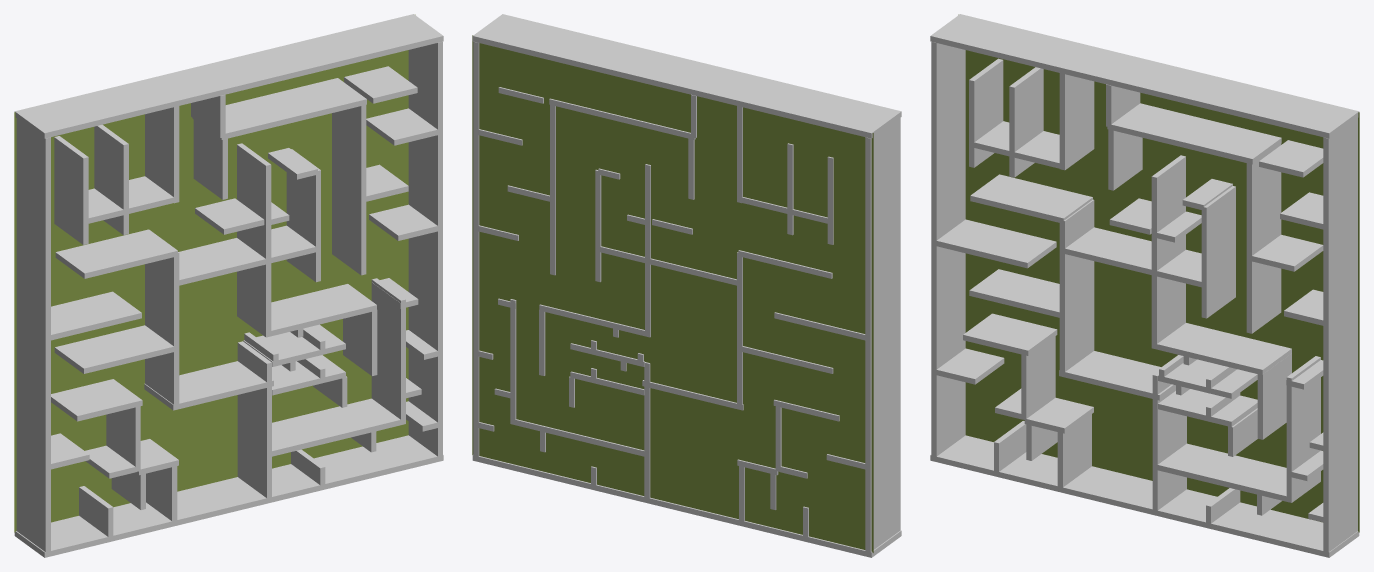
File: Labirinth .fbx
The picture shows the model from 3 angles, left to right: view 1: azimuth 30°, elevation 25°; view 2: azimuth 150°, elevation 25°; view 3: azimuth 330°, elevation 25°; orthographic projection.
Parts seen in each view (by area): view 1: Floor, Wallright__5_, Wallright__2_, Wallright__4_, Wallright__3_, Wallright__13_, Wallright__7_, Wallright__28_, Wallright__10_, Wallright__30_, Wallright__12_, Wallright__27_ (+36 smaller); view 2: Floor, Wallright__5_, Wallright__2_, Wallright__3_, Wallright__4_, Wallright__7_, Wallright__13_, Wallright__28_, Wallright__12_, Wallright__10_, Wallright__30_, Wallright__27_ (+10 smaller); view 3: Floor, Wallright__4_, Wallright__2_, Wallright__5_, Wallright__3_, Wallright__7_, Wallright__13_, Wallright__10_, Wallright__30_, Wallright__50_, Wallright__25_, Wallright__12_ (+36 smaller).
Boxes of the visible parts, x1=… form: Floor: x1=14, y1=14, x2=415, y2=532; Wallright__5_: x1=16, y1=118, x2=50, y2=554; Wallright__2_: x1=14, y1=14, x2=443, y2=138; Wallright__4_: x1=408, y1=41, x2=442, y2=460; Wallright__3_: x1=14, y1=435, x2=443, y2=557; Wallright__13_: x1=237, y1=143, x2=271, y2=333; Wallright__7_: x1=192, y1=78, x2=366, y2=139; Wallright__28_: x1=237, y1=341, x2=271, y2=497; Wallright__10_: x1=145, y1=252, x2=179, y2=409; Wallright__30_: x1=272, y1=398, x2=402, y2=456; Wallright__12_: x1=178, y1=225, x2=317, y2=285; Wallright__27_: x1=371, y1=278, x2=405, y2=424; Floor: x1=472, y1=35, x2=873, y2=552; Wallright__5_: x1=865, y1=118, x2=900, y2=552; Wallright__2_: x1=472, y1=14, x2=901, y2=138; Wallright__3_: x1=472, y1=455, x2=901, y2=557; Wallright__4_: x1=473, y1=41, x2=479, y2=458; Wallright__7_: x1=549, y1=98, x2=695, y2=139; Wallright__13_: x1=645, y1=164, x2=650, y2=333; Wallright__28_: x1=644, y1=362, x2=650, y2=501; Wallright__12_: x1=598, y1=246, x2=739, y2=285; Wallright__10_: x1=737, y1=252, x2=742, y2=409; Wallright__30_: x1=513, y1=419, x2=644, y2=456; Wallright__27_: x1=510, y1=299, x2=516, y2=424; Floor: x1=958, y1=14, x2=1359, y2=532; Wallright__4_: x1=1323, y1=118, x2=1357, y2=556; Wallright__2_: x1=930, y1=14, x2=1359, y2=138; Wallright__5_: x1=931, y1=41, x2=965, y2=460; Wallright__3_: x1=930, y1=435, x2=1359, y2=557; Wallright__7_: x1=1107, y1=103, x2=1281, y2=164; Wallright__13_: x1=1151, y1=155, x2=1185, y2=345; Wallright__10_: x1=1059, y1=199, x2=1094, y2=376; Wallright__30_: x1=1157, y1=443, x2=1288, y2=502; Wallright__50_: x1=1201, y1=186, x2=1235, y2=318; Wallright__25_: x1=1151, y1=323, x2=1291, y2=375; Wallright__12_: x1=1065, y1=227, x2=1203, y2=287.
Size of the model in its own units: 5000 by 5055 by 647.
